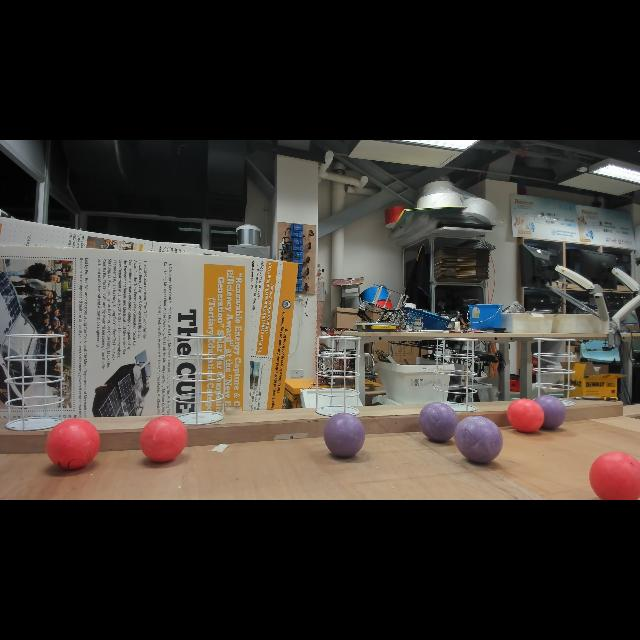P: (454, 416, 504, 464), (323, 412, 365, 458), (418, 402, 459, 442), (530, 394, 566, 432)
R: (46, 418, 100, 470), (588, 450, 640, 500), (140, 414, 188, 464), (506, 398, 546, 434)
S: (4, 332, 66, 432), (172, 336, 226, 426), (314, 336, 362, 416), (432, 337, 478, 413), (532, 338, 576, 408)
